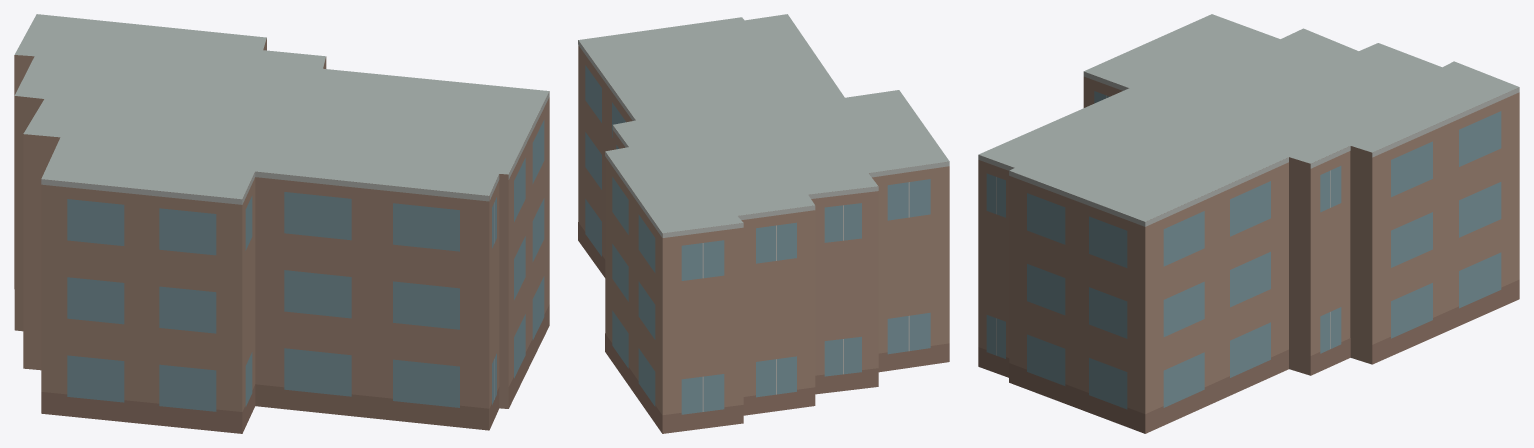
File: survey-upis-32523388.glb
3 views of the same model, side by side, from view 1: azimuth 30°, elevation 25°; view 2: azimuth 150°, elevation 25°; view 3: azimuth 270°, elevation 25° (orthographic). The views are drawn at different scales.
Visible parts, largest first — view 1: survey-upis-32523388.tmp; view 2: survey-upis-32523388.tmp; view 3: survey-upis-32523388.tmp.
Part boxes in pixels (x1=…): survey-upis-32523388.tmp: x1=14, y1=14, x2=549, y2=433; survey-upis-32523388.tmp: x1=578, y1=14, x2=949, y2=433; survey-upis-32523388.tmp: x1=978, y1=14, x2=1519, y2=433.
Bounding box in the file's own units: 21.56 × 10.25 × 23.73.
